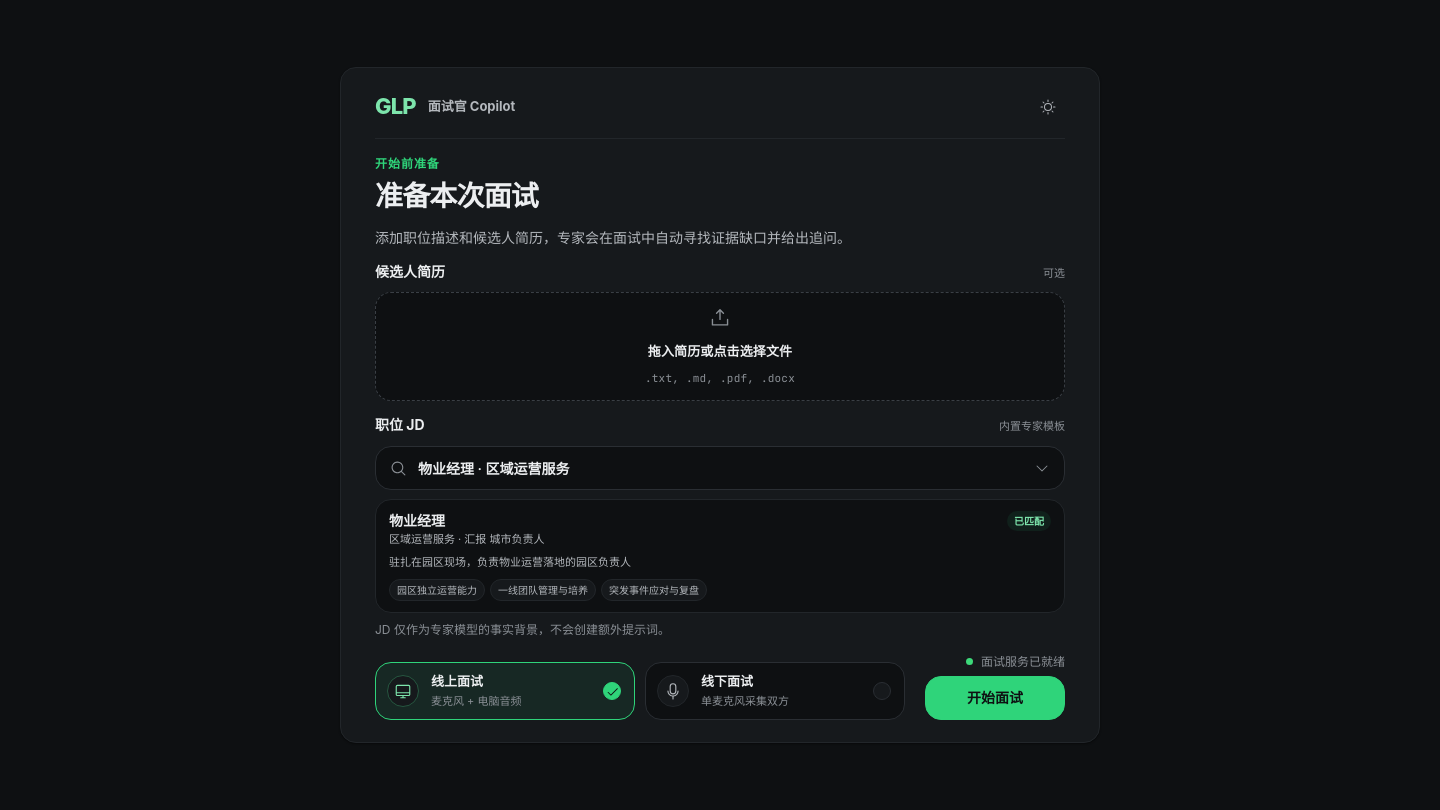
Test: Shell one-shot interview workflow › uses a single room microphone lane when offline mode is selected
Step 1. Click the radio button labelled "线下面试 单麦克风采集双方" → (775, 691), box [645,662,905,720]
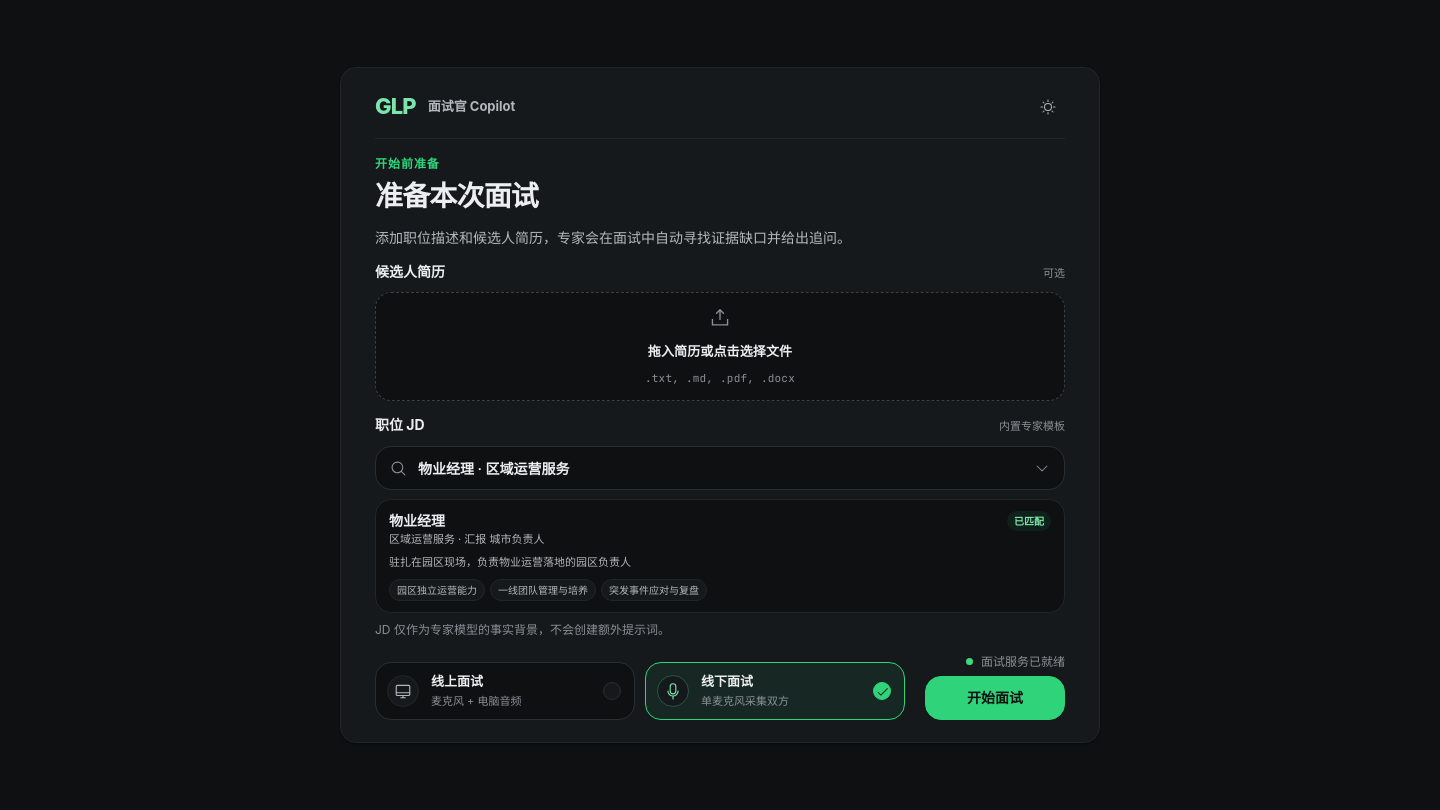
Step 2. Click the button "开始面试" → (995, 698), box [925,676,1065,720]
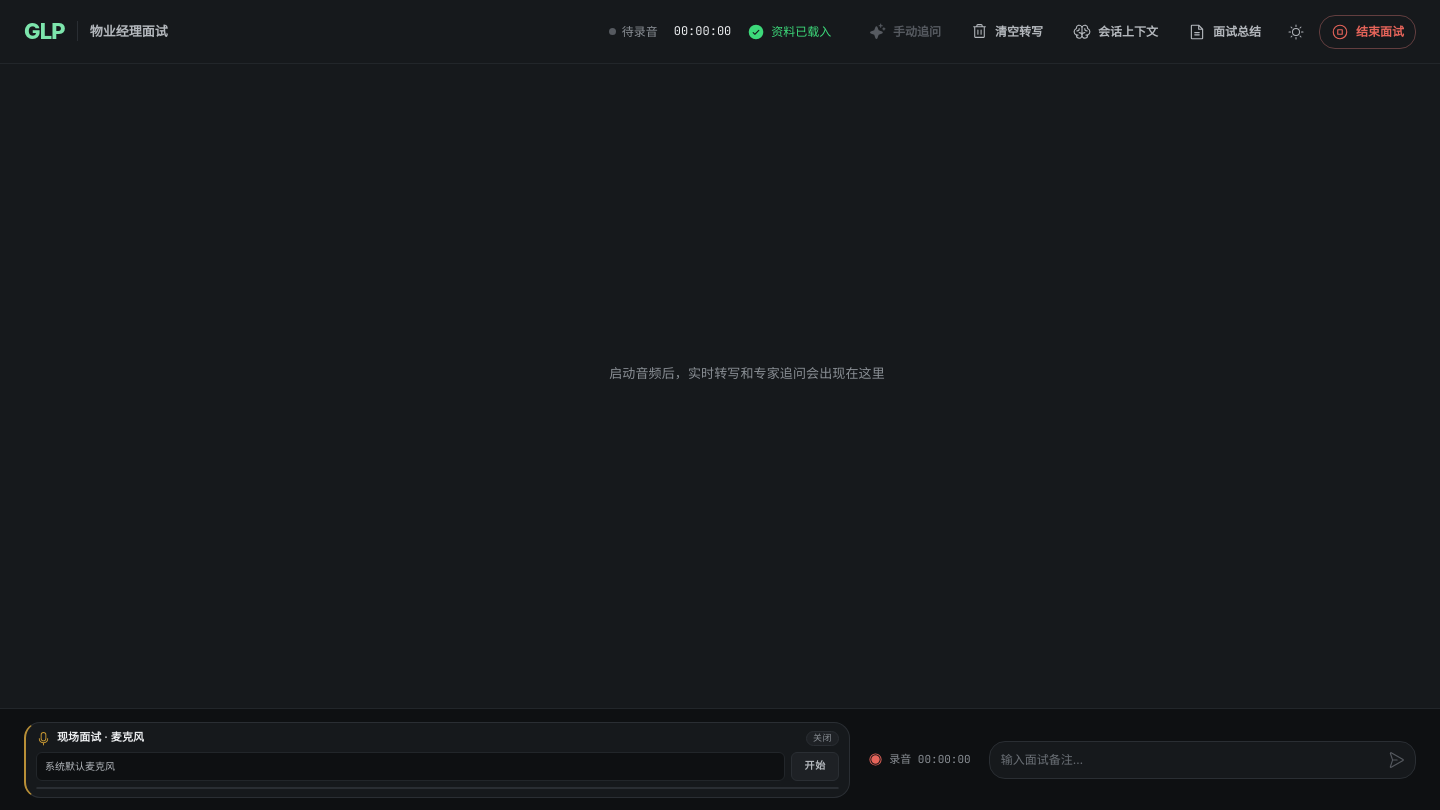
Now the button "结束面试" is shown, box [1319,14,1416,48]
Now the element with id "channel-mic" is shown, box [24,722,850,798]
Now the text "现场面试 · 麦克风" is shown, box [57,731,144,745]
